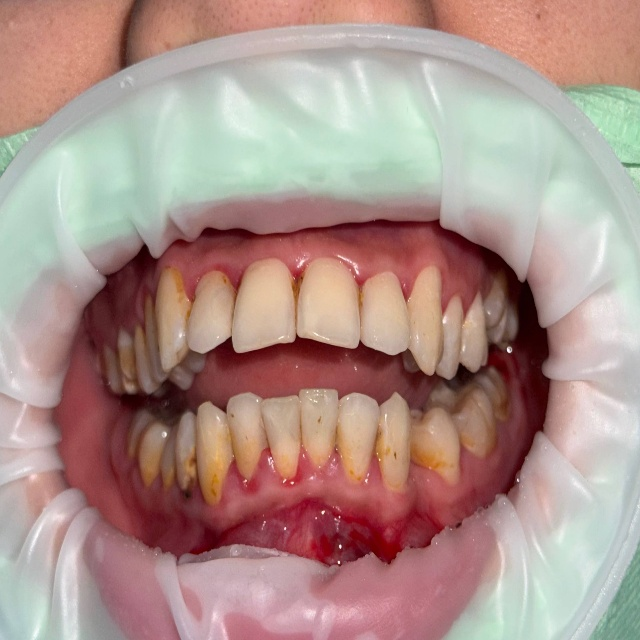clean_tooth: (232, 393, 336, 453), (365, 282, 432, 369), (298, 265, 360, 345), (232, 269, 291, 351), (483, 58, 552, 100), (189, 287, 230, 344), (339, 395, 376, 448), (160, 313, 185, 368), (379, 395, 408, 440), (461, 308, 485, 356), (198, 402, 224, 438), (427, 412, 455, 445)
